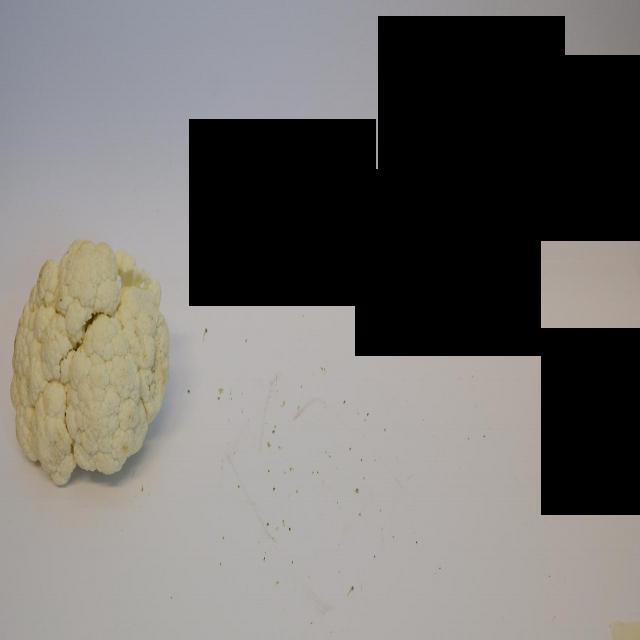cauliflower: (7, 250, 177, 499)
